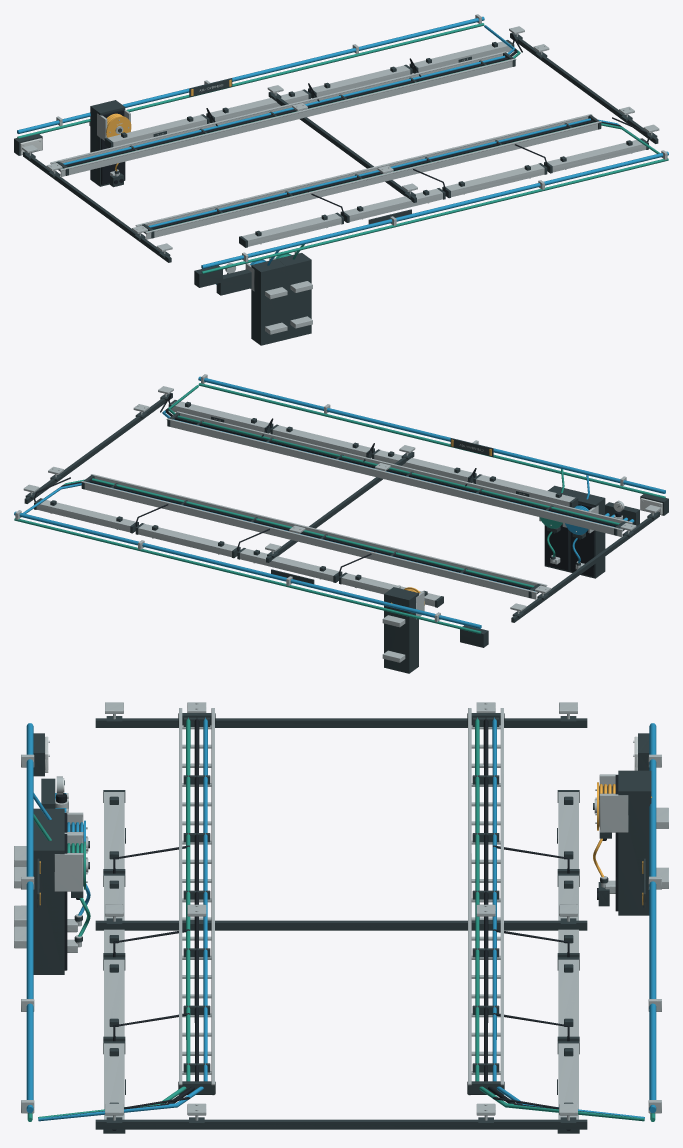
Rendered from aurel-overhead-garage-service-rig.glb.
3 views of the same model, one above another, from view 1: azimuth 30°, elevation 25°; view 2: azimuth 150°, elevation 25°; view 3: azimuth 270°, elevation 25° (orthographic). The views are drawn at different scales.
Parts seen in each view (by area): view 1: A26_L0_A26_BrushedAlloy, A26_L2_A26_BrushedAlloy, A26_L0_A26_PowderCoat, A26_L2_A26_PowderCoat, A26_L0_A26_AirBlue, A26_L0_A26_ServiceTeal, A26_L0_A26_Rubber, A26_L1_A26_AirBlue, A26_L1_A26_ServiceTeal, A26_L1_A26_Rubber; view 2: A26_L0_A26_BrushedAlloy, A26_L2_A26_BrushedAlloy, A26_L0_A26_PowderCoat, A26_L0_A26_ServiceTeal, A26_L2_A26_PowderCoat, A26_L0_A26_AirBlue, A26_L0_A26_Rubber, A26_L1_A26_ServiceTeal, A26_L1_A26_AirBlue, A26_L1_A26_Rubber; view 3: A26_L0_A26_BrushedAlloy, A26_L0_A26_PowderCoat, A26_L2_A26_PowderCoat, A26_L0_A26_AirBlue, A26_L2_A26_BrushedAlloy, A26_L0_A26_Rubber, A26_L0_A26_ServiceTeal, A26_L1_A26_Rubber, A26_L1_A26_AirBlue, A26_L1_A26_ServiceTeal.
Boxes of the visible parts, x1=… form: A26_L0_A26_BrushedAlloy: x1=22, y1=14, x2=667, y2=334; A26_L2_A26_BrushedAlloy: x1=60, y1=35, x2=651, y2=253; A26_L0_A26_PowderCoat: x1=14, y1=33, x2=657, y2=344; A26_L2_A26_PowderCoat: x1=14, y1=33, x2=658, y2=345; A26_L0_A26_AirBlue: x1=18, y1=16, x2=668, y2=284; A26_L0_A26_ServiceTeal: x1=17, y1=23, x2=668, y2=273; A26_L0_A26_Rubber: x1=65, y1=33, x2=649, y2=273; A26_L1_A26_AirBlue: x1=17, y1=16, x2=668, y2=267; A26_L1_A26_ServiceTeal: x1=19, y1=23, x2=663, y2=272; A26_L1_A26_Rubber: x1=66, y1=35, x2=647, y2=228; A26_L0_A26_BrushedAlloy: x1=15, y1=374, x2=660, y2=662; A26_L2_A26_BrushedAlloy: x1=36, y1=394, x2=653, y2=606; A26_L0_A26_PowderCoat: x1=25, y1=393, x2=668, y2=672; A26_L0_A26_ServiceTeal: x1=14, y1=383, x2=664, y2=633; A26_L2_A26_PowderCoat: x1=24, y1=393, x2=668, y2=673; A26_L0_A26_AirBlue: x1=14, y1=376, x2=664, y2=628; A26_L0_A26_Rubber: x1=33, y1=393, x2=621, y2=589; A26_L1_A26_ServiceTeal: x1=19, y1=383, x2=665, y2=631; A26_L1_A26_AirBlue: x1=14, y1=376, x2=665, y2=627; A26_L1_A26_Rubber: x1=35, y1=395, x2=616, y2=588; A26_L0_A26_BrushedAlloy: x1=14, y1=702, x2=668, y2=1120; A26_L0_A26_PowderCoat: x1=33, y1=713, x2=649, y2=1132; A26_L2_A26_PowderCoat: x1=33, y1=716, x2=651, y2=1133; A26_L0_A26_AirBlue: x1=26, y1=717, x2=656, y2=1121; A26_L2_A26_BrushedAlloy: x1=75, y1=714, x2=605, y2=1120; A26_L0_A26_Rubber: x1=49, y1=717, x2=633, y2=1130; A26_L0_A26_ServiceTeal: x1=27, y1=717, x2=655, y2=1121; A26_L1_A26_Rubber: x1=50, y1=719, x2=632, y2=1116; A26_L1_A26_AirBlue: x1=27, y1=719, x2=655, y2=1121; A26_L1_A26_ServiceTeal: x1=28, y1=719, x2=654, y2=1121.
Bounding box in the file's own units: 11.75 × 2.31 × 7.93.
